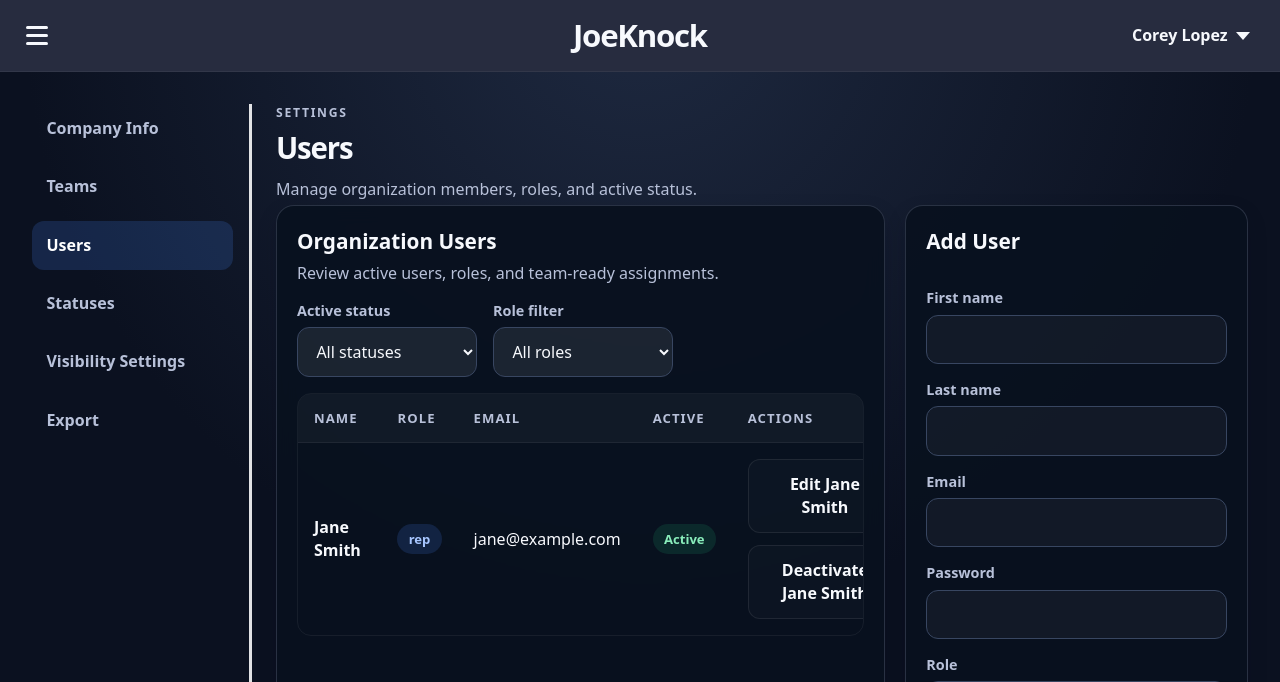
Test: users page › deactivates a user for admin role
The image size is (1280, 682).
Check: the text "Jane Smith" is shown, box [314, 516, 361, 561]
Click the button "Deactivate Jane Smith" at (825, 582), box [748, 545, 902, 619]
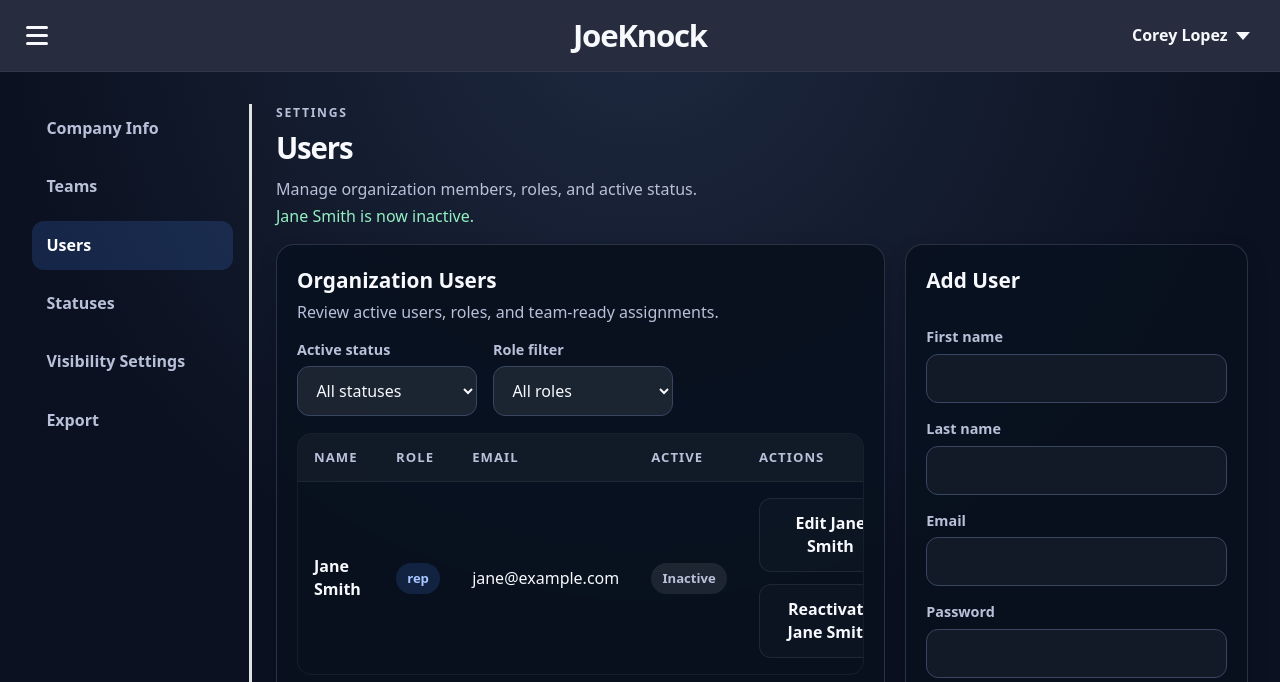
Check: the message reads "Jane Smith is now inactive.", box [276, 205, 474, 227]
